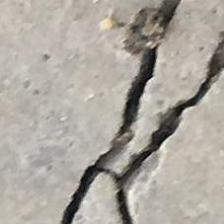Crack: (35, 1, 223, 224)
